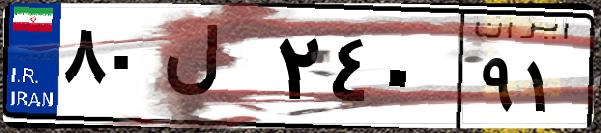0: (385, 28, 445, 110), (110, 28, 158, 98)
1: (525, 38, 570, 115)
2: (270, 28, 330, 110)
4: (330, 28, 385, 110)
8: (57, 26, 110, 100)
9: (475, 38, 525, 113)
ل: (158, 20, 270, 120)
